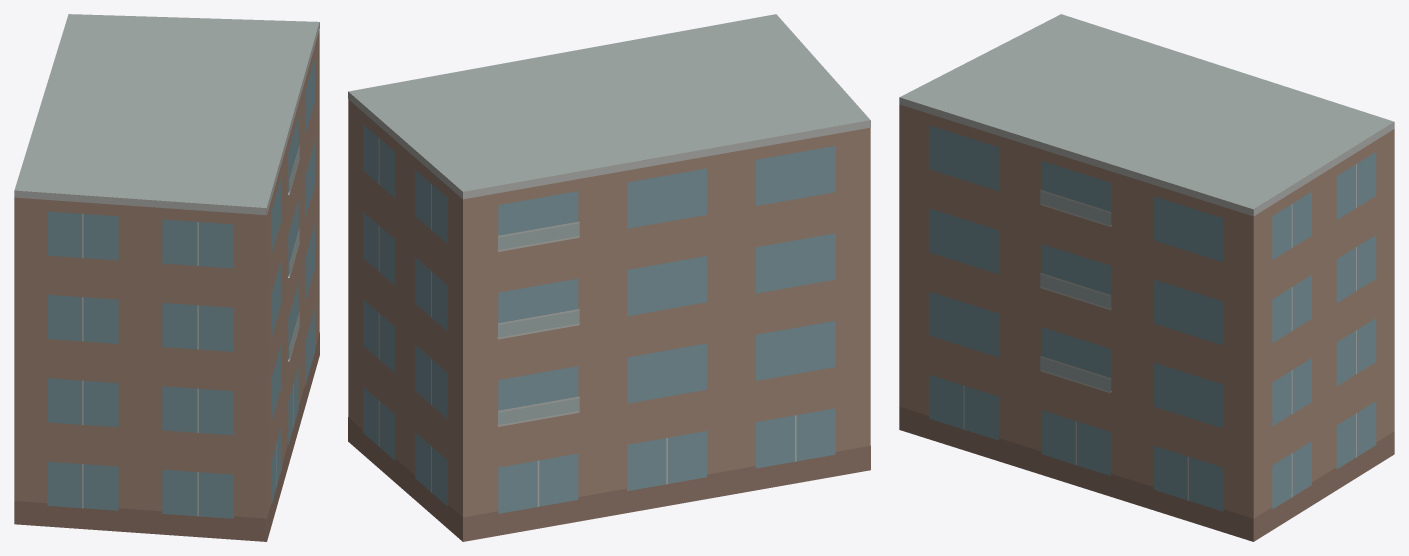
File: survey-upis-32872257.glb
The picture shows the model from 3 angles, left to right: view 1: azimuth 30°, elevation 25°; view 2: azimuth 150°, elevation 25°; view 3: azimuth 270°, elevation 25°; orthographic projection. The views are drawn at different scales.
Visible parts, largest first — view 1: survey-upis-32872257.tmp; view 2: survey-upis-32872257.tmp; view 3: survey-upis-32872257.tmp.
Part boxes in pixels (x1,y1,x2,y2): survey-upis-32872257.tmp: (14, 14, 319, 541); survey-upis-32872257.tmp: (348, 14, 870, 541); survey-upis-32872257.tmp: (899, 14, 1394, 541).
Bounding box in the file's own units: 14.5 × 11.5 × 15.53.
